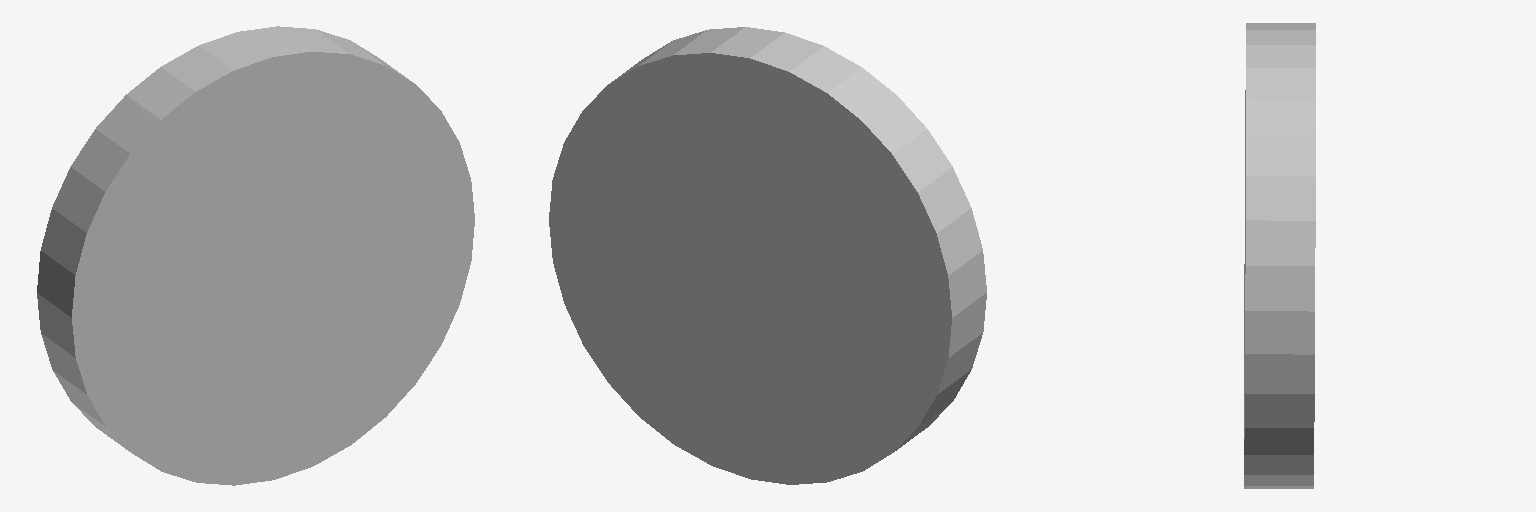
File: coin.obj
3 views of the same model, side by side, from view 1: azimuth 30°, elevation 25°; view 2: azimuth 150°, elevation 25°; view 3: azimuth 270°, elevation 25° (orthographic).
Parts seen in each view (by area): view 1: Cylinder; view 2: Cylinder; view 3: Cylinder.
Part boxes in pixels (x1,y1,x2,y2): Cylinder: (37, 26, 474, 485); Cylinder: (549, 27, 986, 484); Cylinder: (1244, 23, 1315, 488).
Size of the model in its own units: 2 by 2 by 0.3107.